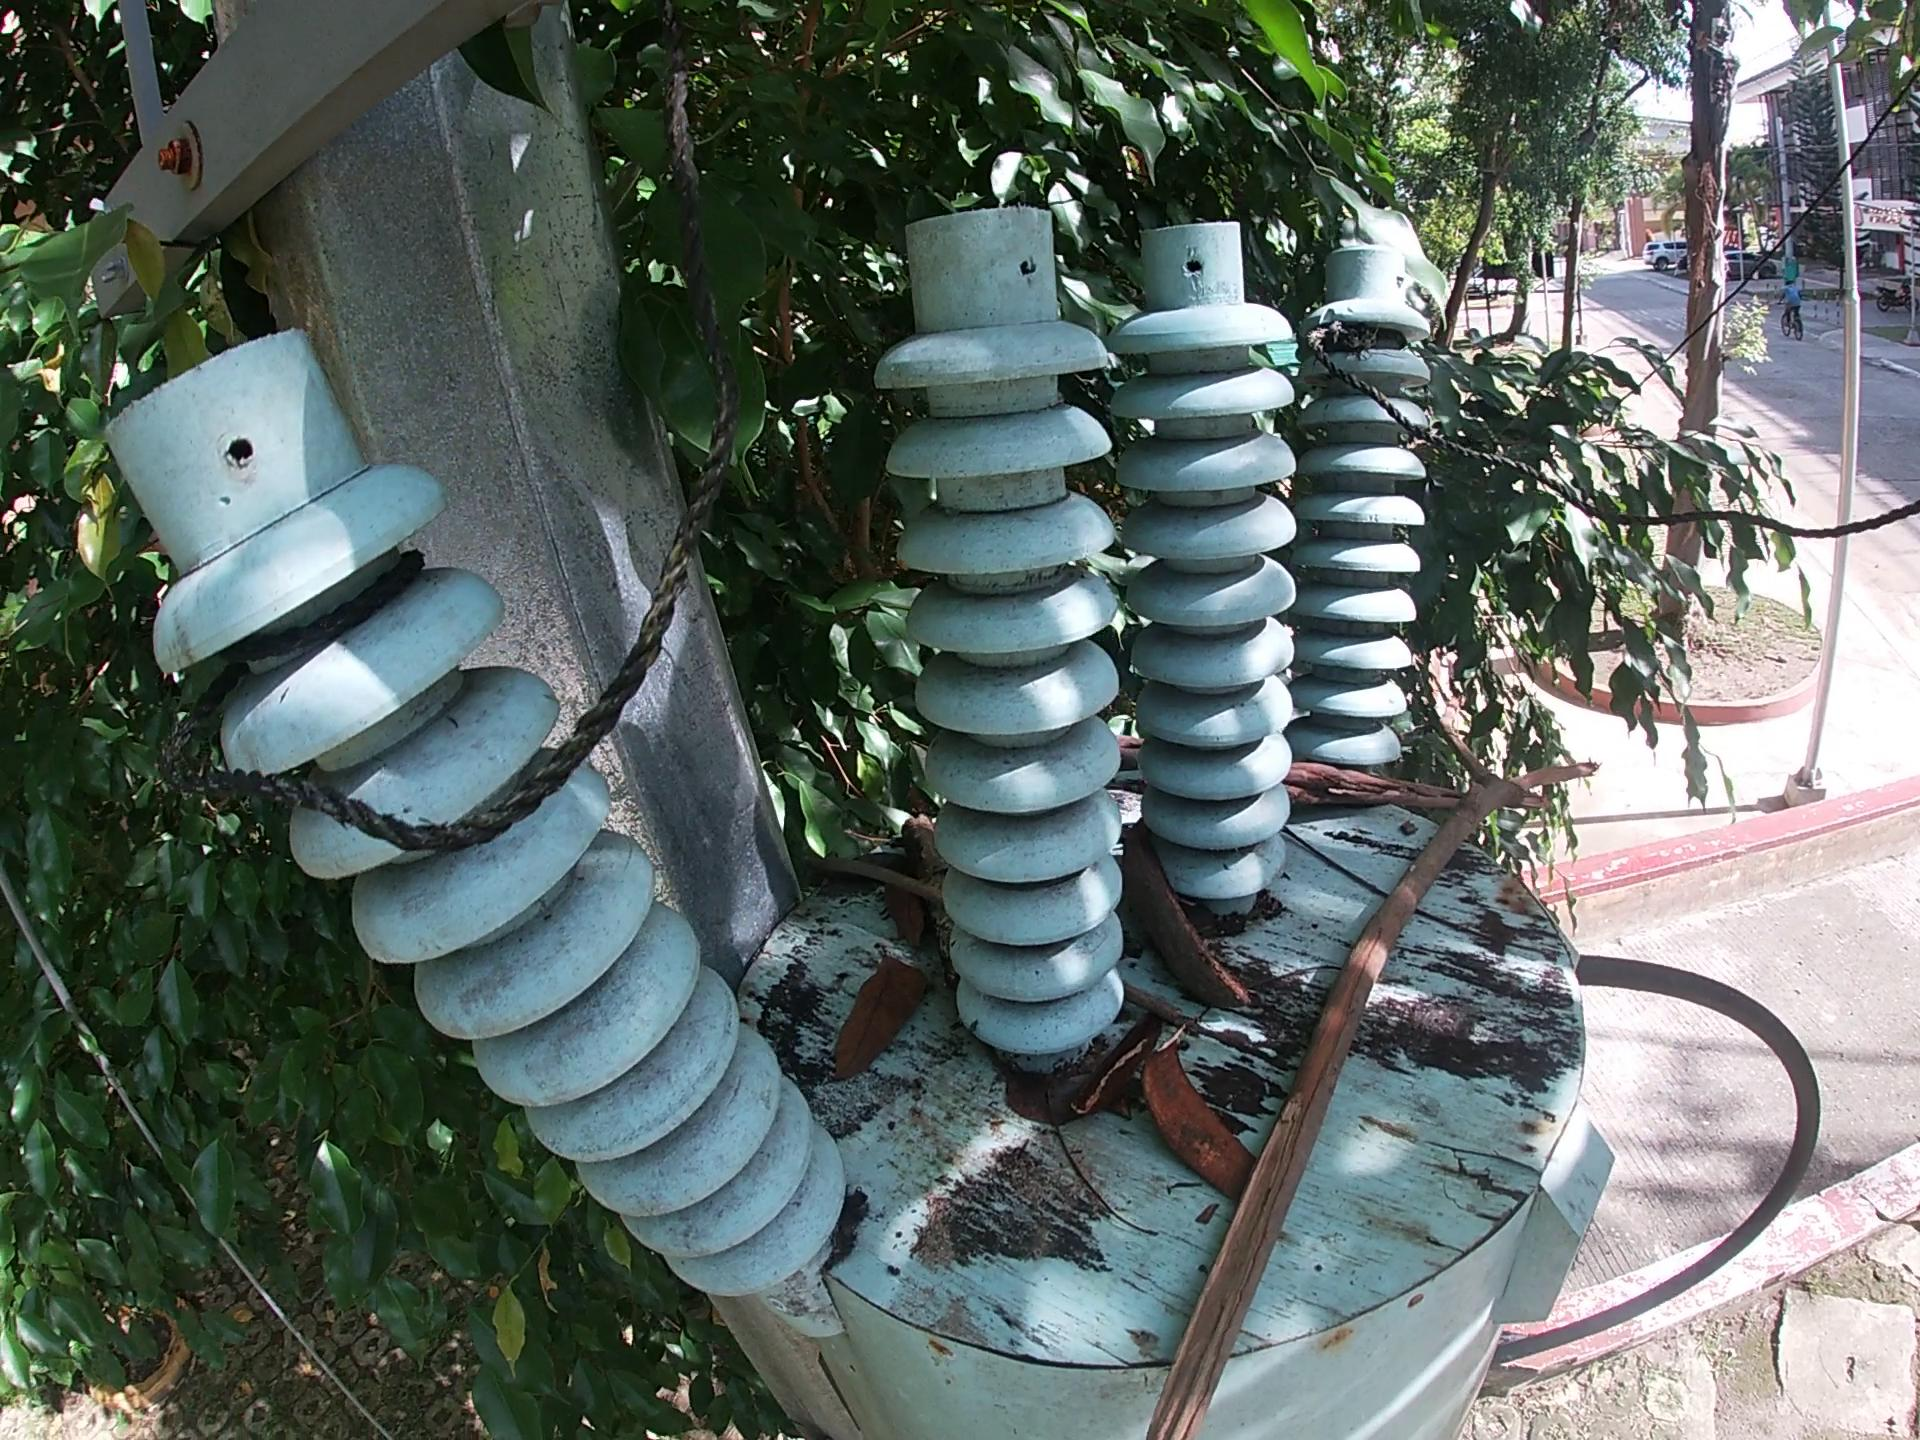leaf: (836, 942, 906, 1088), (989, 1071, 1089, 1125)
mahogany fruit: (1131, 846, 1277, 1013), (1144, 1019, 1244, 1198)
tree branch: (1107, 731, 1612, 1434), (1277, 829, 1516, 953), (1058, 1134, 1167, 1258), (897, 805, 971, 982), (1294, 771, 1462, 821), (821, 853, 951, 911), (1119, 988, 1212, 1048), (1075, 1038, 1144, 1113), (1104, 731, 1141, 764)
